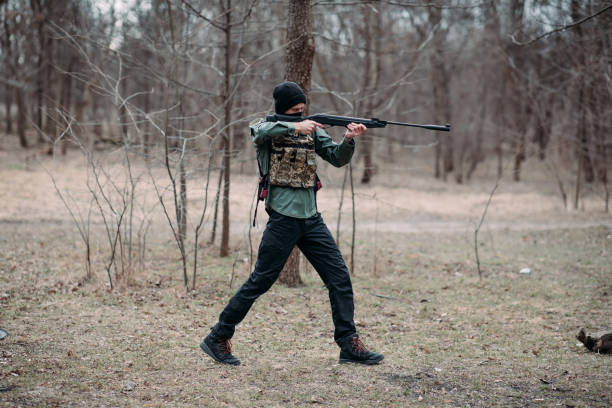gun: (265, 111, 452, 134)
